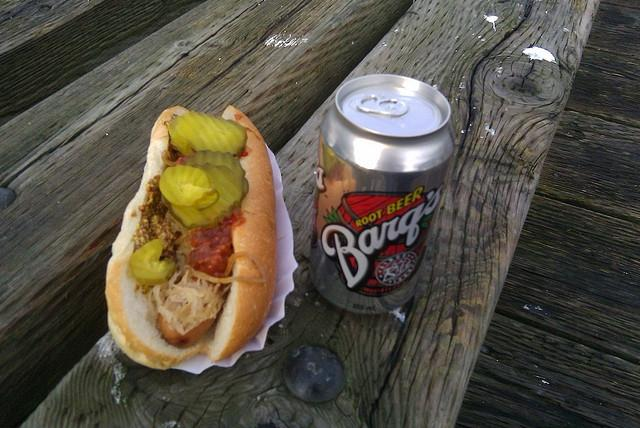onion: (172, 284, 206, 298), (205, 294, 219, 319), (191, 294, 197, 316), (182, 299, 188, 306)
